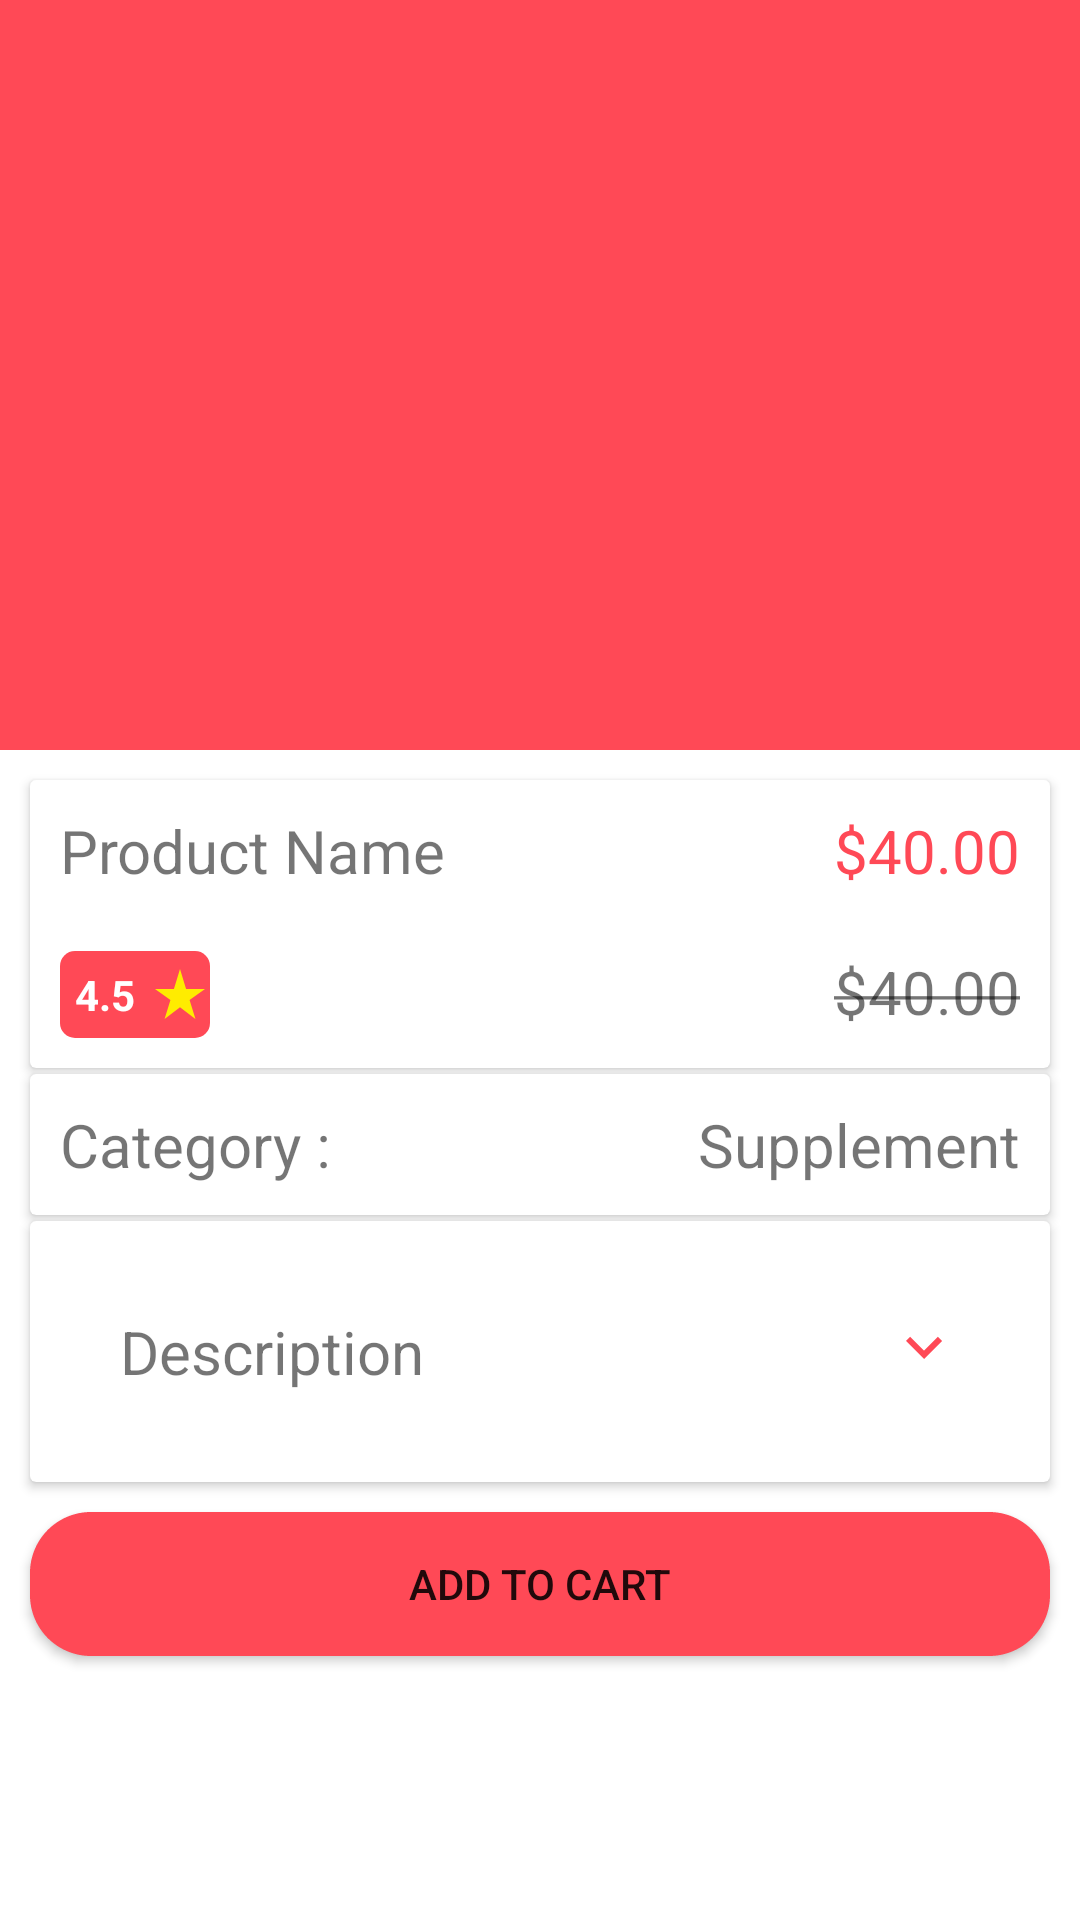

Point at icon controls on the screen. Image size 1080px×1920px, points as [x,y].
arrow down: [924,1348]
rate star: [180,994]
